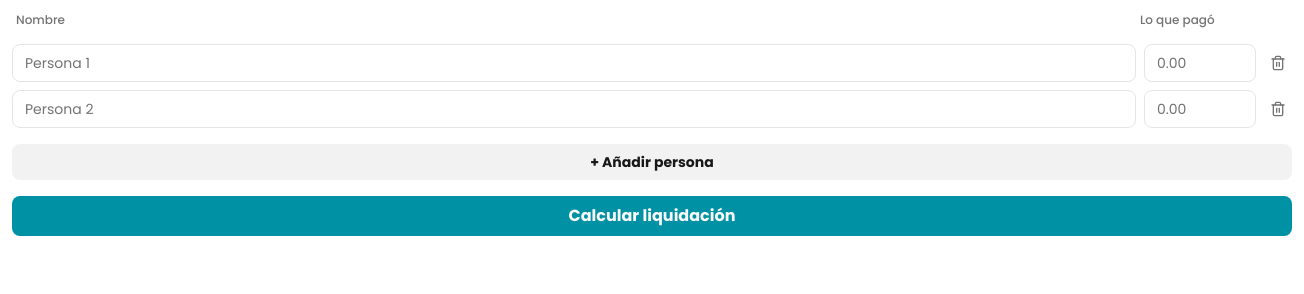
Scenario: ExpenseSettlement › muestra error si un monto está vacío con nombre personalizado
Type "Ana" into the field with placeholder "Persona 1". click: (574, 63)
box: [12,44,1136,82]
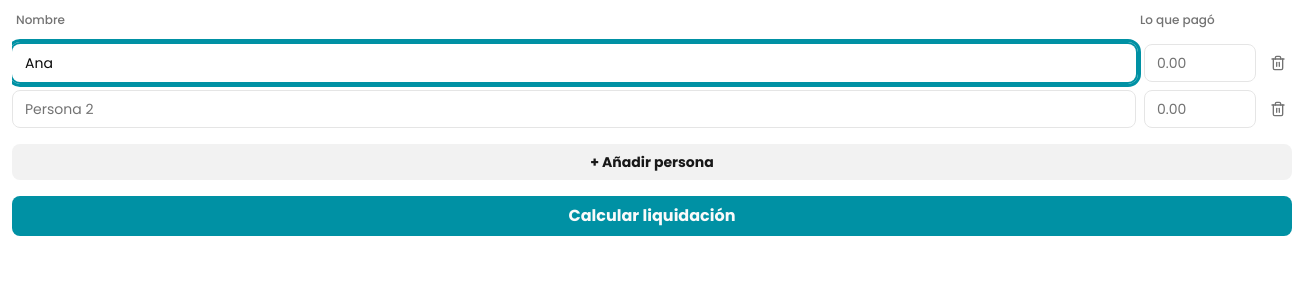
Click the button "Calcular liquidación". click: (652, 216)
box: [12,196,1292,236]
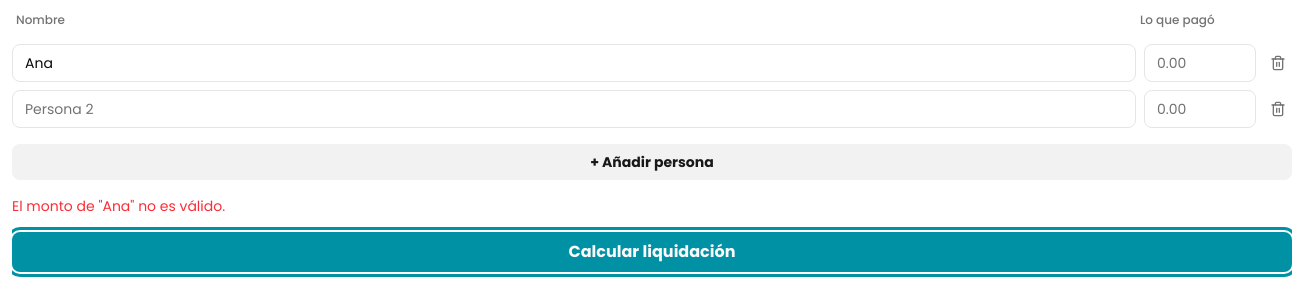
Result: the text "El monto de \"Ana\" no es válido." is shown at [12,196,225,216]
